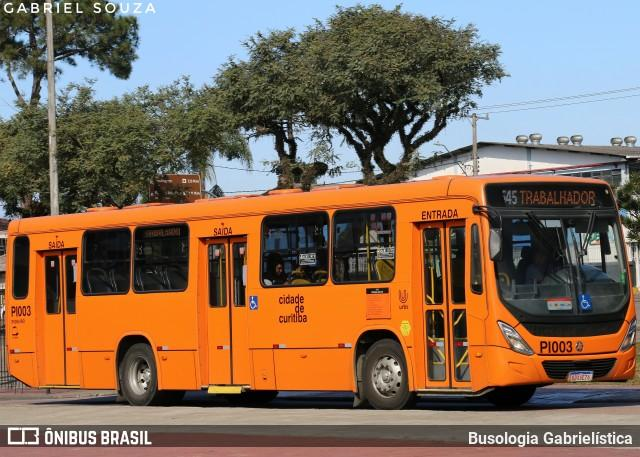TRABALHADOR: (517, 186, 600, 209)
